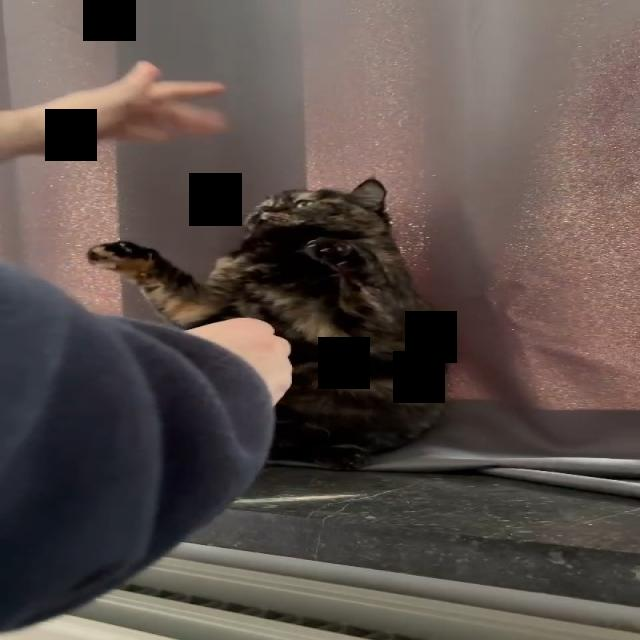authorized: (85, 177, 455, 471)
